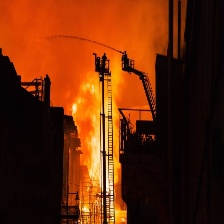fire: (68, 77, 119, 211)
